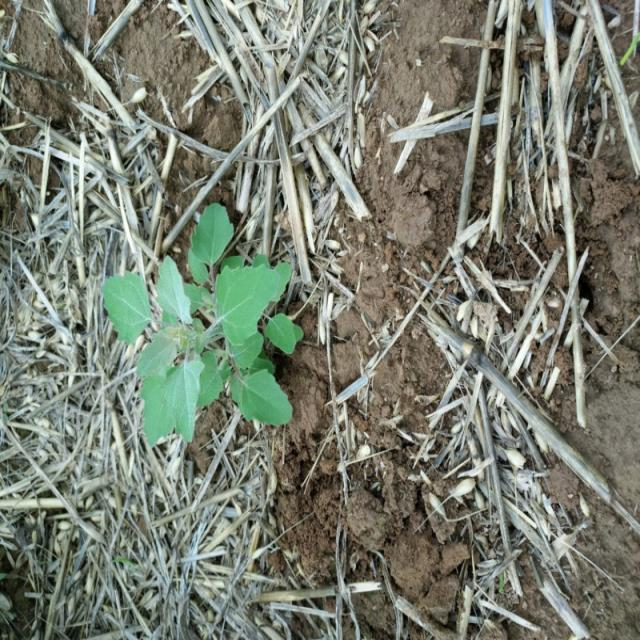goosefoots: (74, 218, 322, 469)
